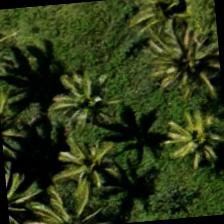Kelapa_Sawit: (36, 56, 134, 154), (40, 114, 138, 212), (142, 15, 223, 112), (143, 93, 223, 191), (131, 0, 220, 62)
